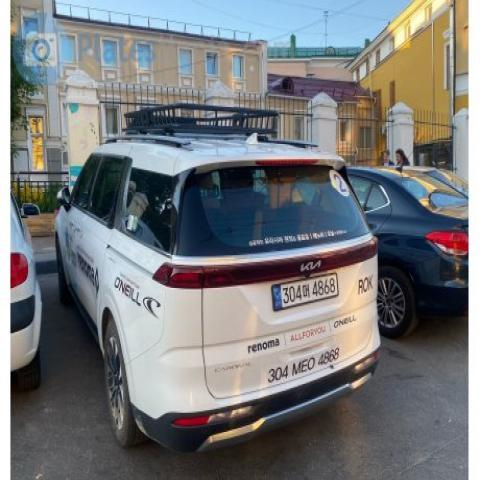LP: (265, 270, 342, 312)
